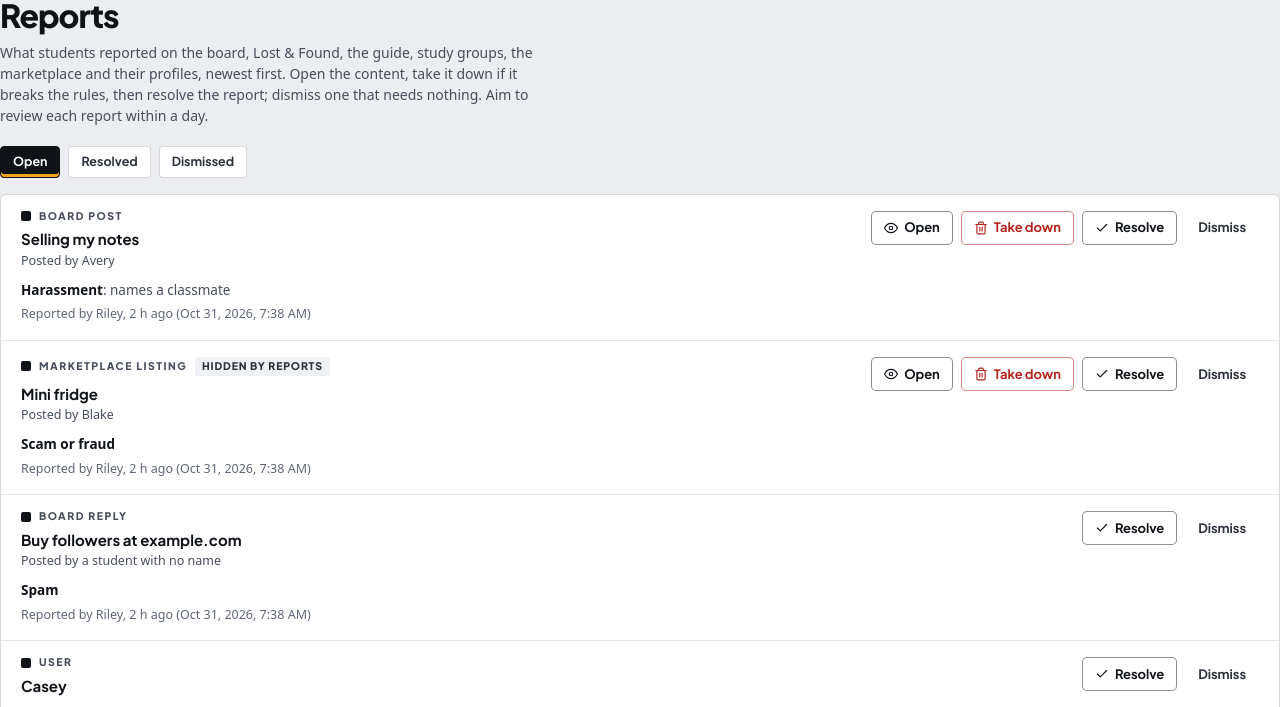
Test: resolve and dismiss close the report and take it off the open queue
The width and height of the screenshot is (1280, 707).
Check: the text "Selling my notes" is shown, box [21,230,139,248]
Step 1. Click the button "Resolve" in the row of "Selling my notes" → coordinates (1130, 228), box [1082,211,1177,245]
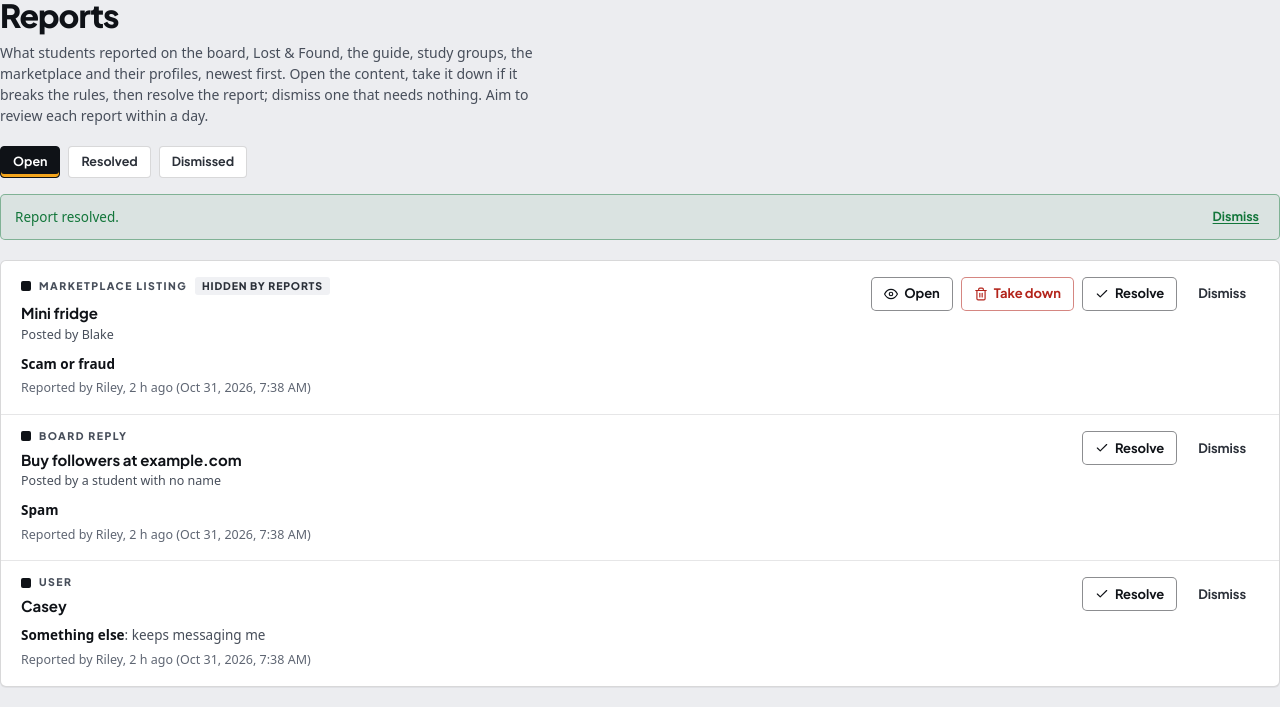
Check: the text "Selling my notes" is gone
Check: the text "Report resolved." is shown, box [15,208,119,226]
Step 2. Click the button "Dismiss" in the row of "User" → coordinates (1222, 594), box [1185,577,1259,611]
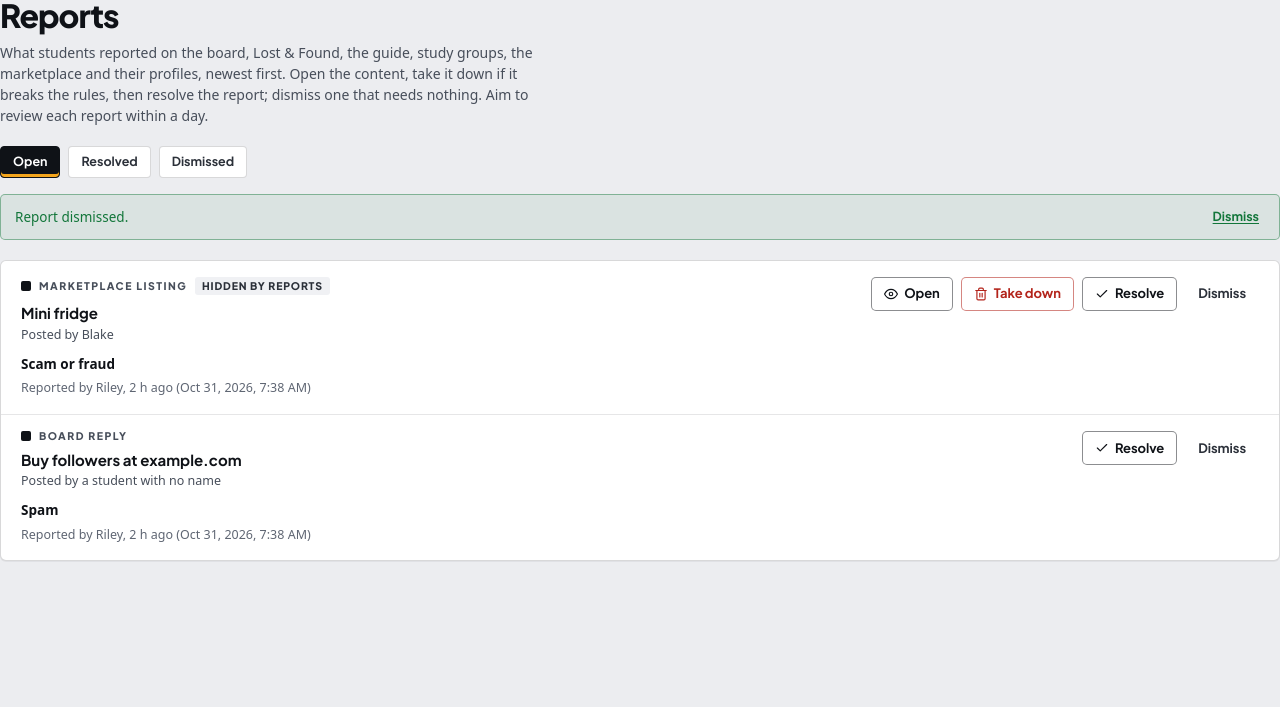
Check: the text "Casey" is gone
